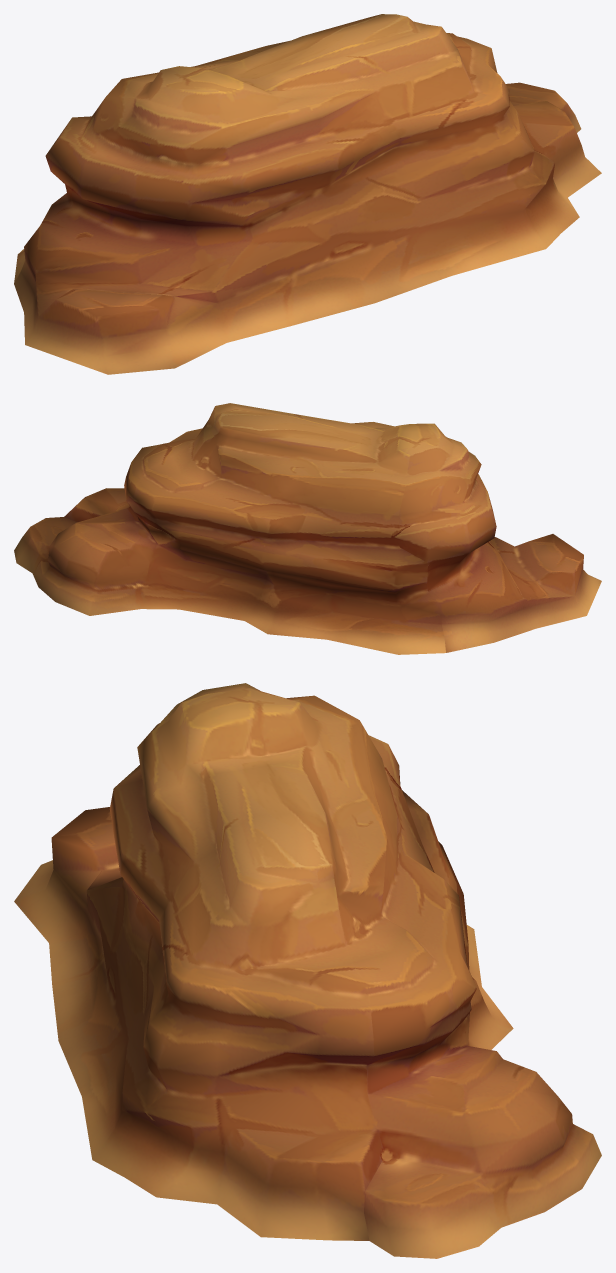
File: huangyexingqiu_shitou08.FBX
3 views of the same model, one above another, from view 1: azimuth 30°, elevation 25°; view 2: azimuth 150°, elevation 25°; view 3: azimuth 270°, elevation 25° (orthographic). The views are drawn at different scales.
Visible parts, largest first — view 1: huangyexingqiu_shitou08; view 2: huangyexingqiu_shitou08; view 3: huangyexingqiu_shitou08.
Part boxes in pixels (left/top/right/bottom): huangyexingqiu_shitou08: left=14, top=14, right=601, bottom=374; huangyexingqiu_shitou08: left=14, top=403, right=601, bottom=654; huangyexingqiu_shitou08: left=14, top=683, right=601, bottom=1258.
Size of the model in its own units: 15250 by 4594 by 9144.
